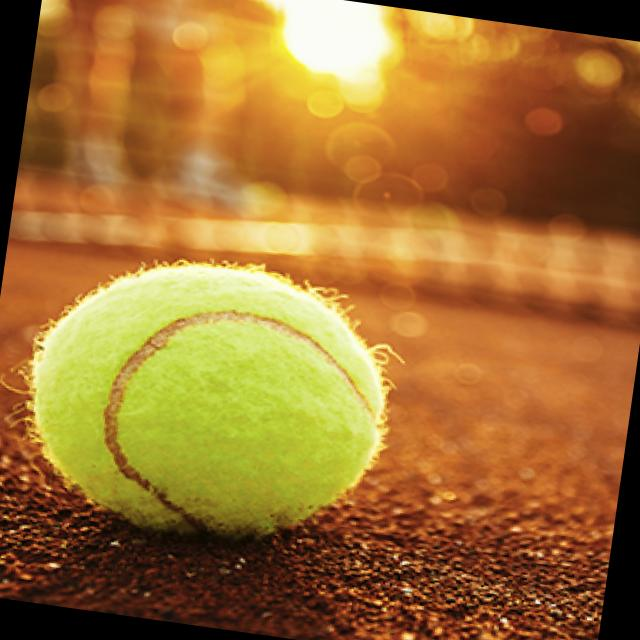Tennis Ball: (34, 262, 384, 539)
